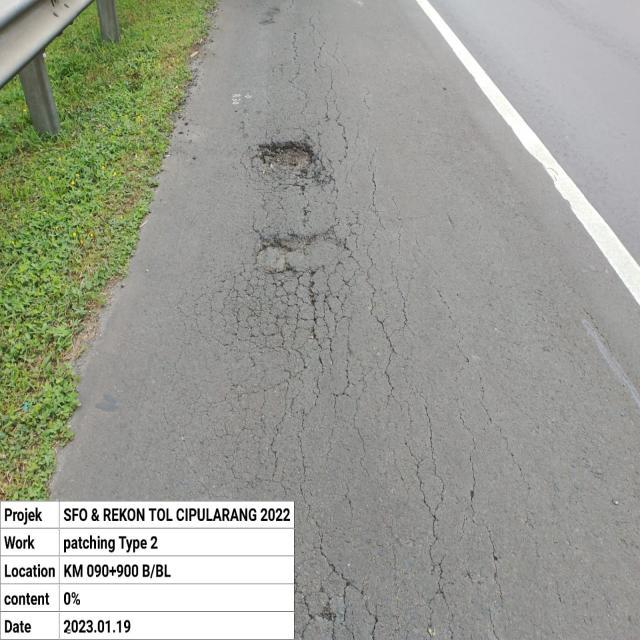Buraco: (250, 232, 323, 276), (254, 135, 320, 181)
